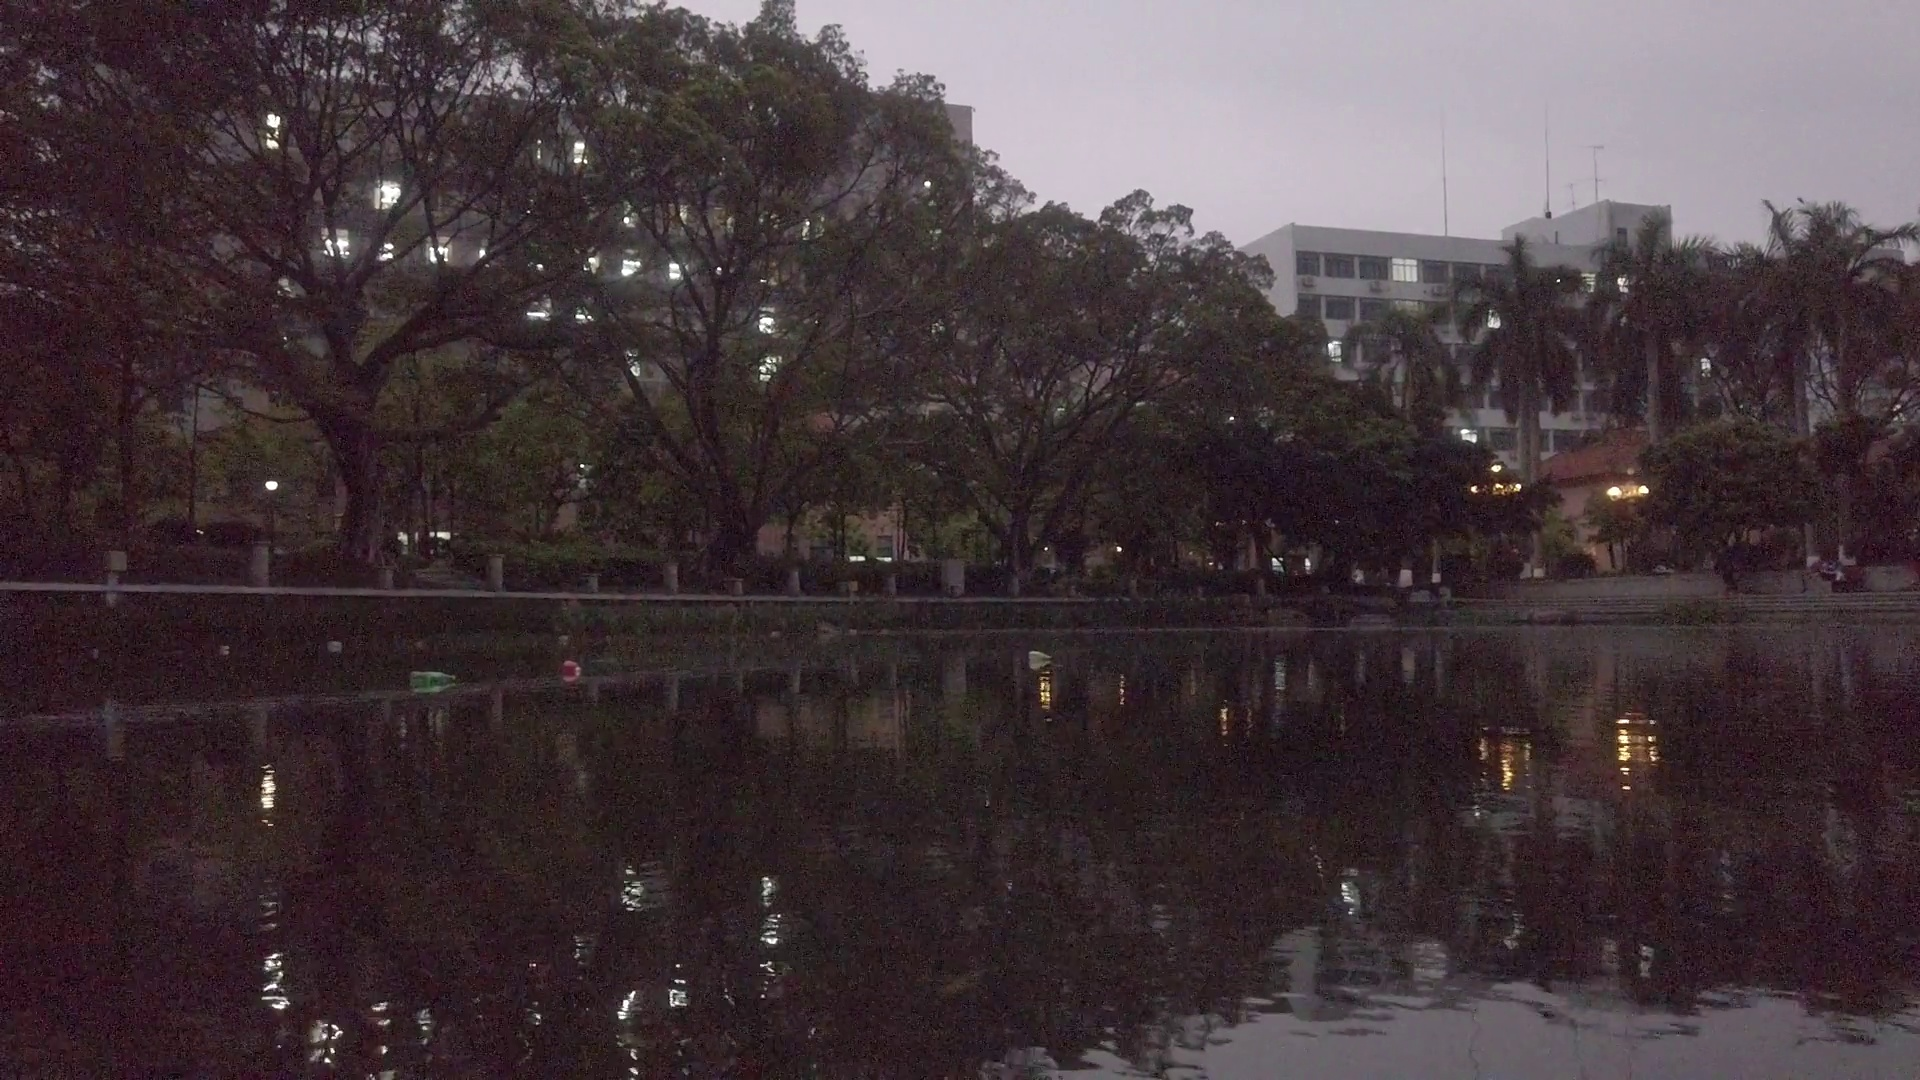bottle: (406, 669, 456, 687), (560, 659, 583, 676), (1029, 647, 1051, 665), (411, 637, 431, 655), (551, 634, 578, 646), (214, 640, 231, 655)
carton: (326, 636, 344, 665)
